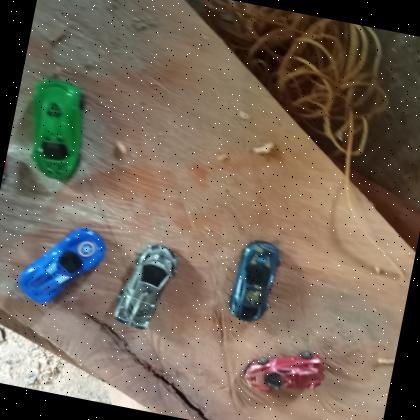Car: (13, 216, 112, 314), (18, 75, 96, 185), (110, 238, 181, 336), (238, 339, 331, 405), (227, 236, 286, 327)
